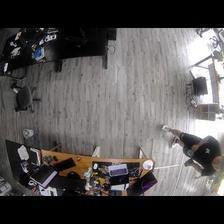normal: (159, 124, 224, 175)
